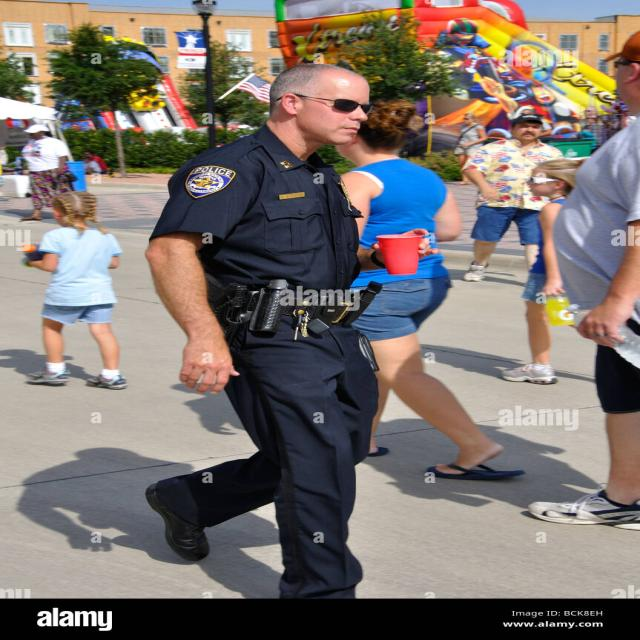police: (112, 43, 433, 590)
